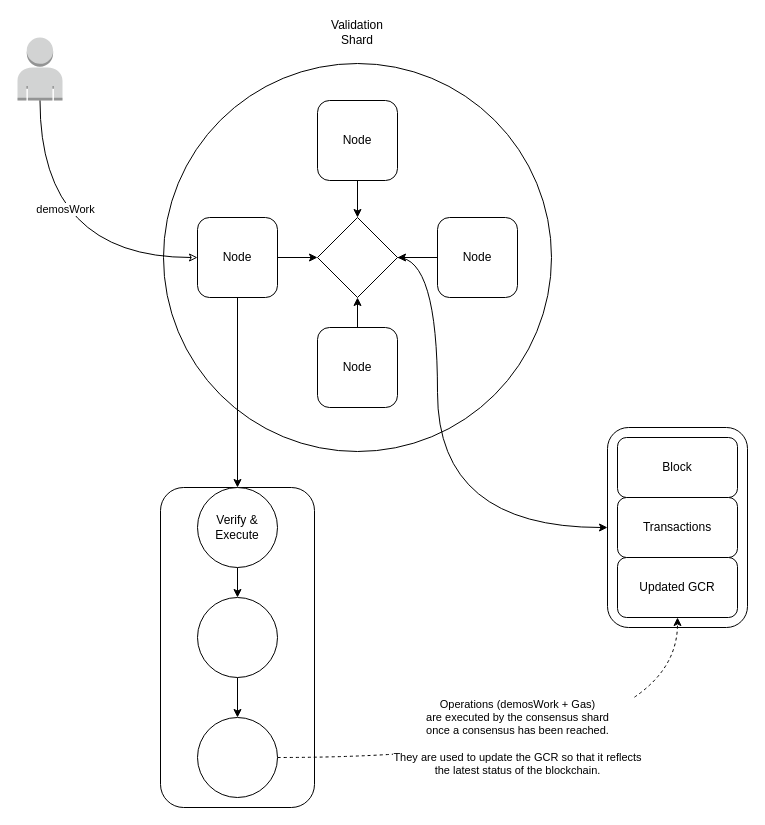
Some shapes in this 765 by 825 pixel diagram are drawn without their labels. Each missing label, with the centre of its shape:
"Client" belongs at point 39,68.
"Consensus" belongs at point 357,257.
"Generates an Operation" belongs at point 237,637.
"Insert Operation and Tx in the Mempool" belongs at point 237,757.
